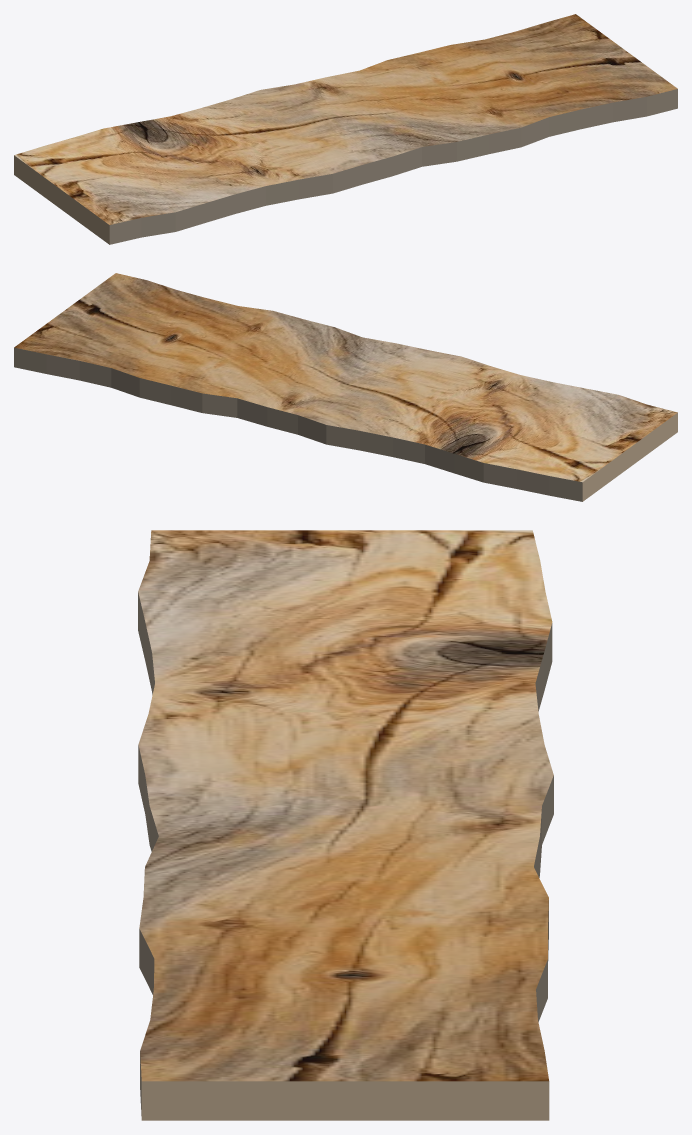
3 views of the same model, one above another, from view 1: azimuth 30°, elevation 25°; view 2: azimuth 150°, elevation 25°; view 3: azimuth 270°, elevation 25° (orthographic). The views are drawn at different scales.
Parts seen in each view (by area): view 1: DK-001; view 2: DK-001; view 3: DK-001.
Part boxes in pixels (<box>): DK-001: <box>14,14,677,244</box>; DK-001: <box>14,273,677,501</box>; DK-001: <box>138,530,553,1120</box>.
Bounding box in the file's own units: 0.9 × 0.03 × 0.287.
Materials: 3 (1 with a texture image).
